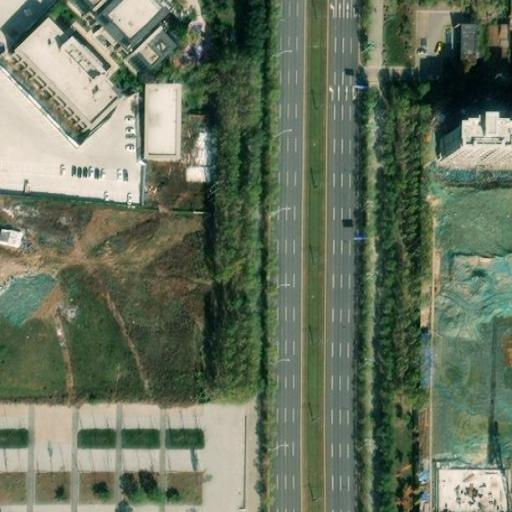building: (16, 19, 121, 127), (82, 0, 180, 72), (445, 126, 512, 163), (146, 82, 179, 156), (455, 21, 478, 58), (484, 19, 510, 45), (0, 225, 22, 248)
